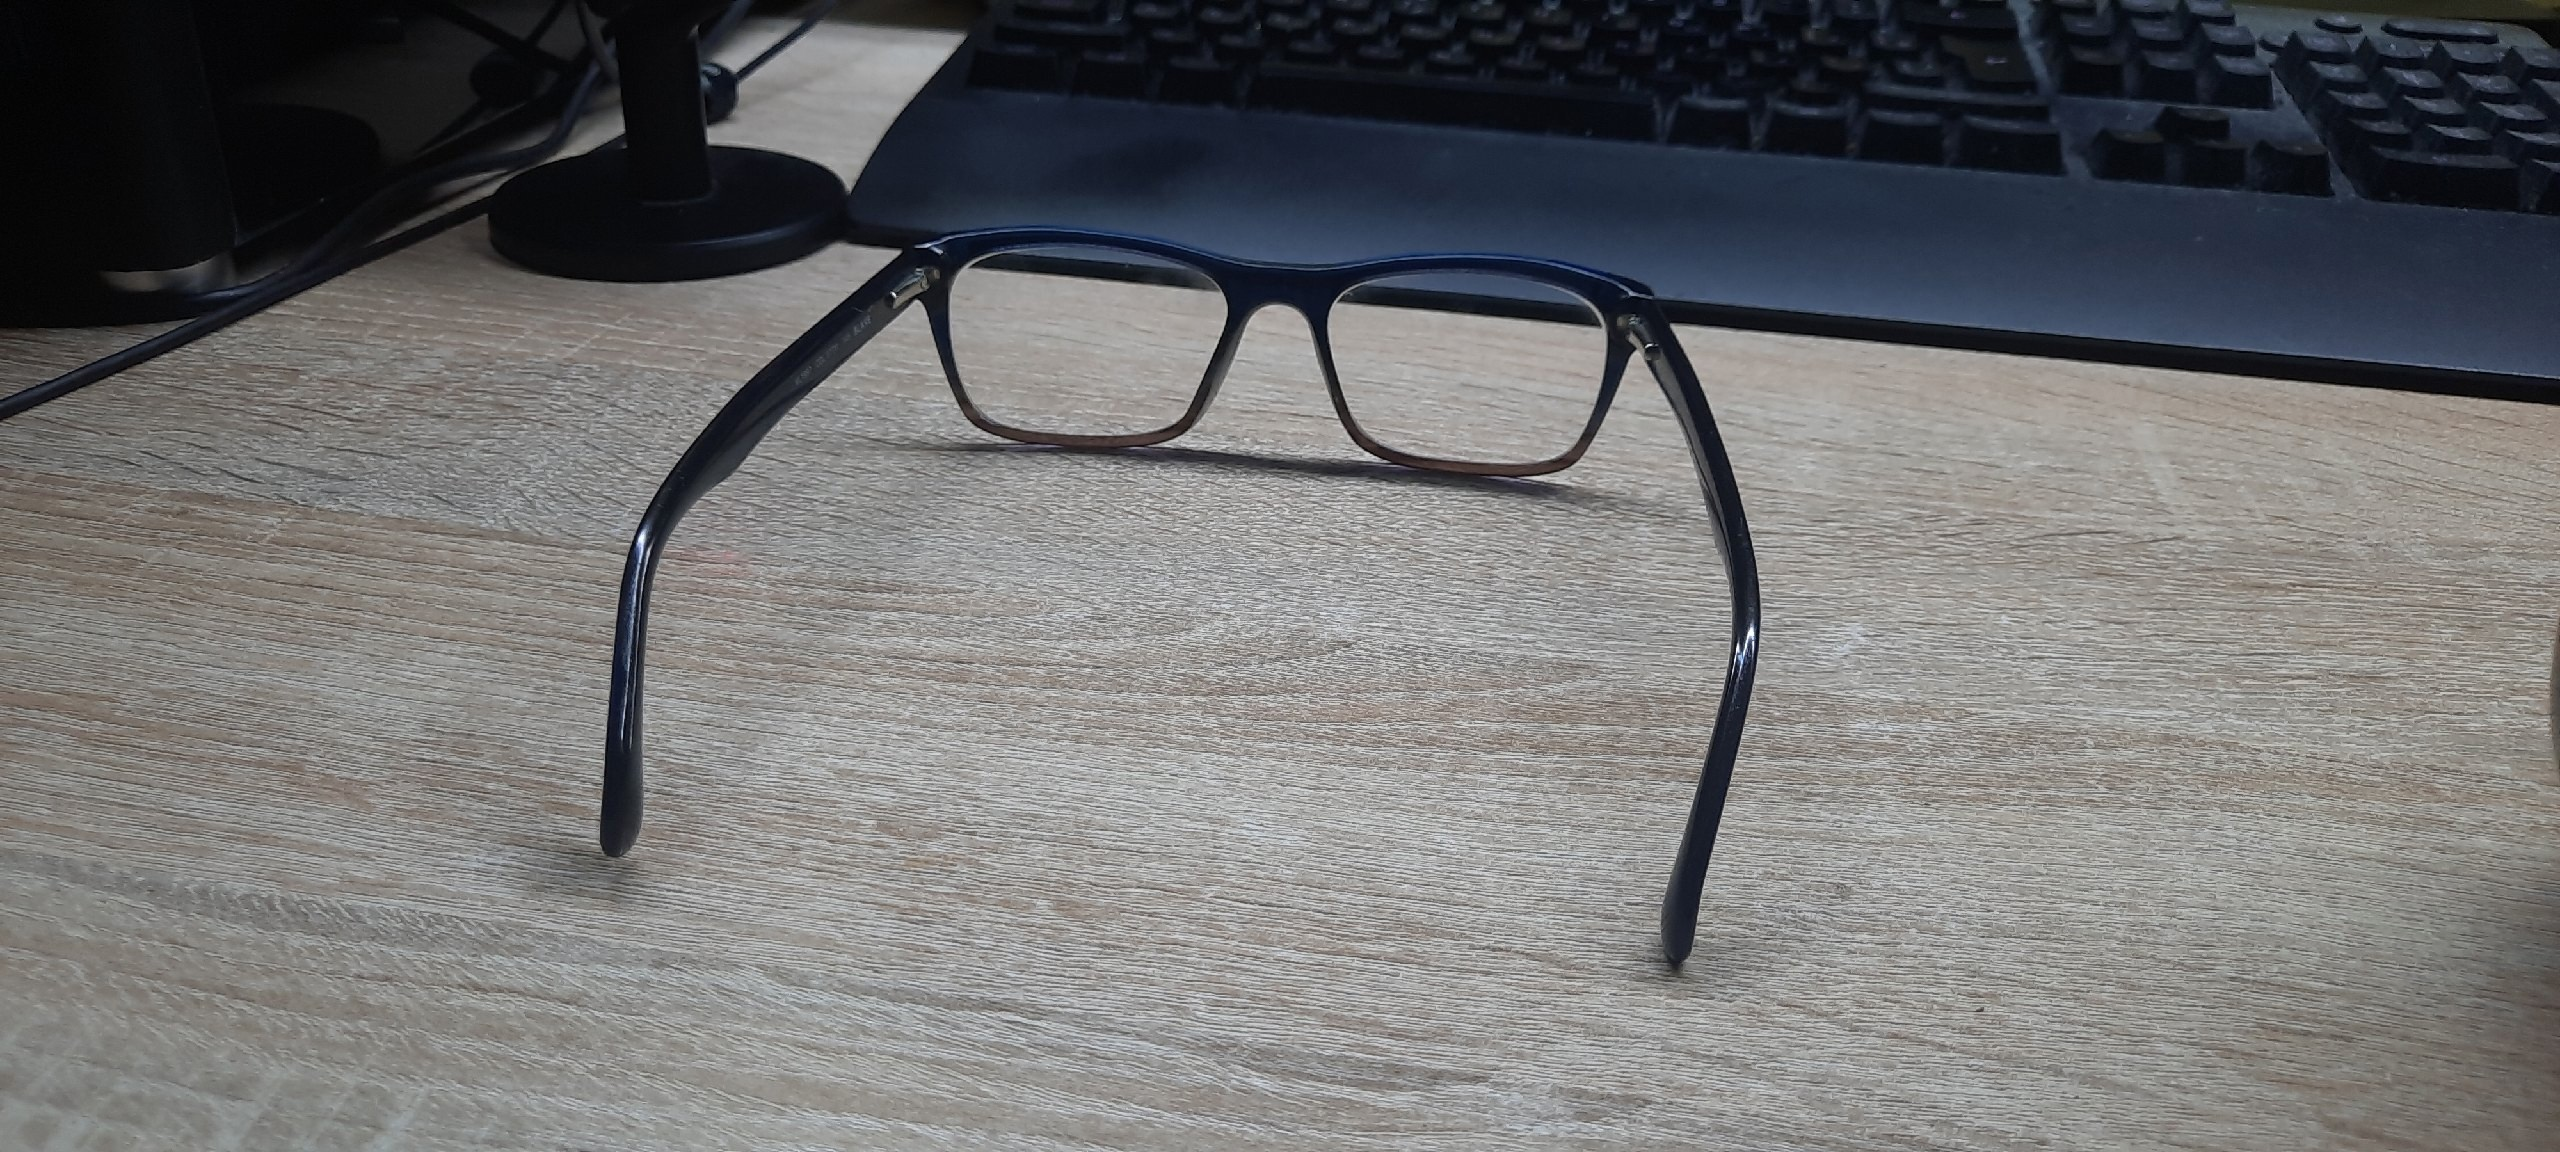glasses: (601, 228, 1760, 966)
